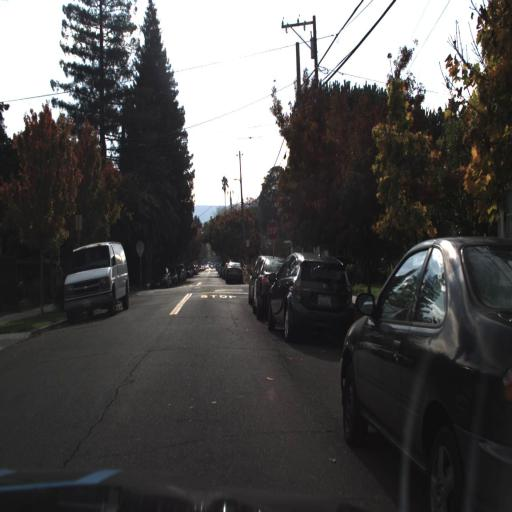car: (340, 234, 512, 512), (266, 243, 357, 344), (264, 252, 355, 340), (57, 234, 140, 329), (61, 239, 129, 323), (247, 250, 289, 317), (222, 255, 247, 291), (245, 255, 261, 307), (149, 263, 172, 291), (225, 262, 243, 284), (154, 265, 171, 286)
